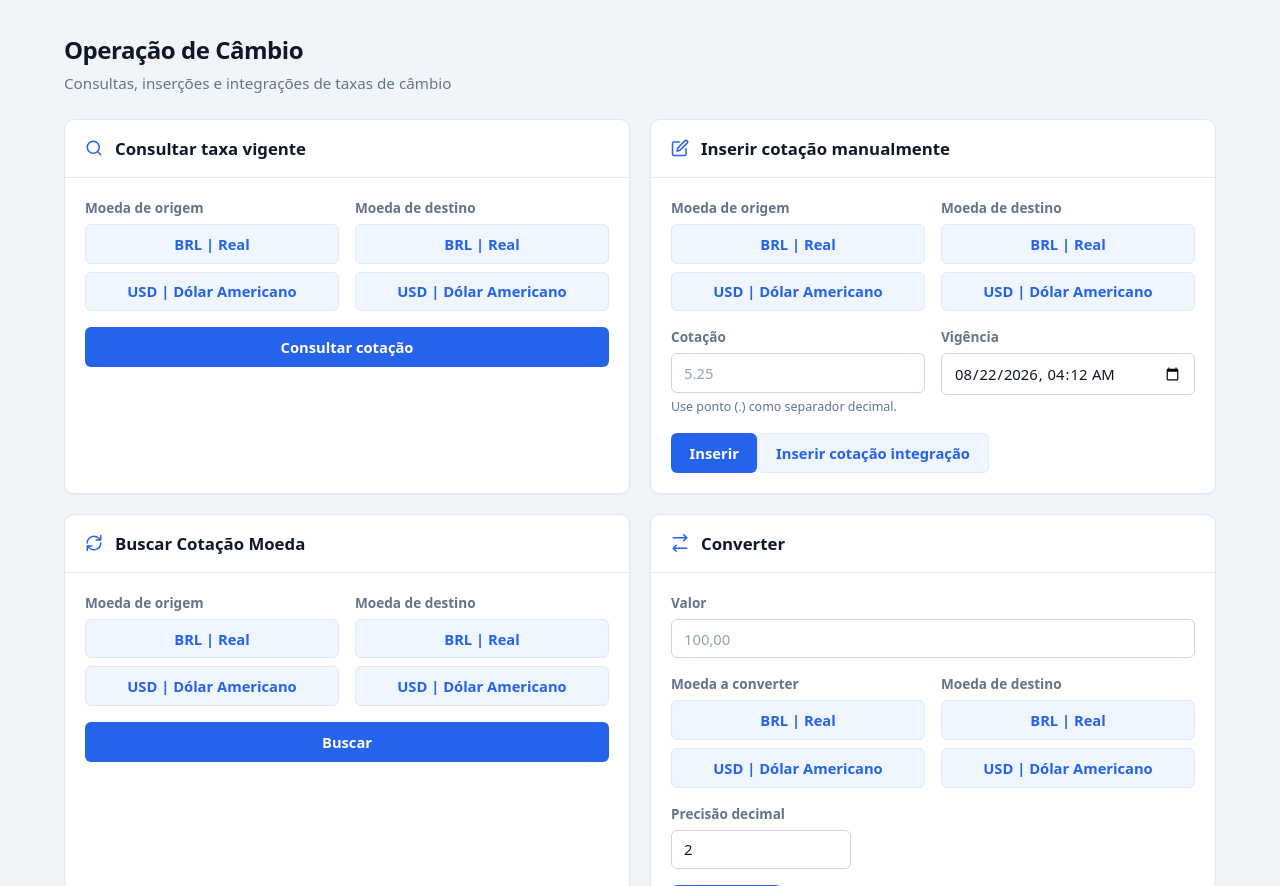
CambioPage › shows a friendly message when no rate is found (404)
Click the button with aria-label "BRL como moeda de origem para consulta": (212, 244) x1=85 y1=224 x2=339 y2=264
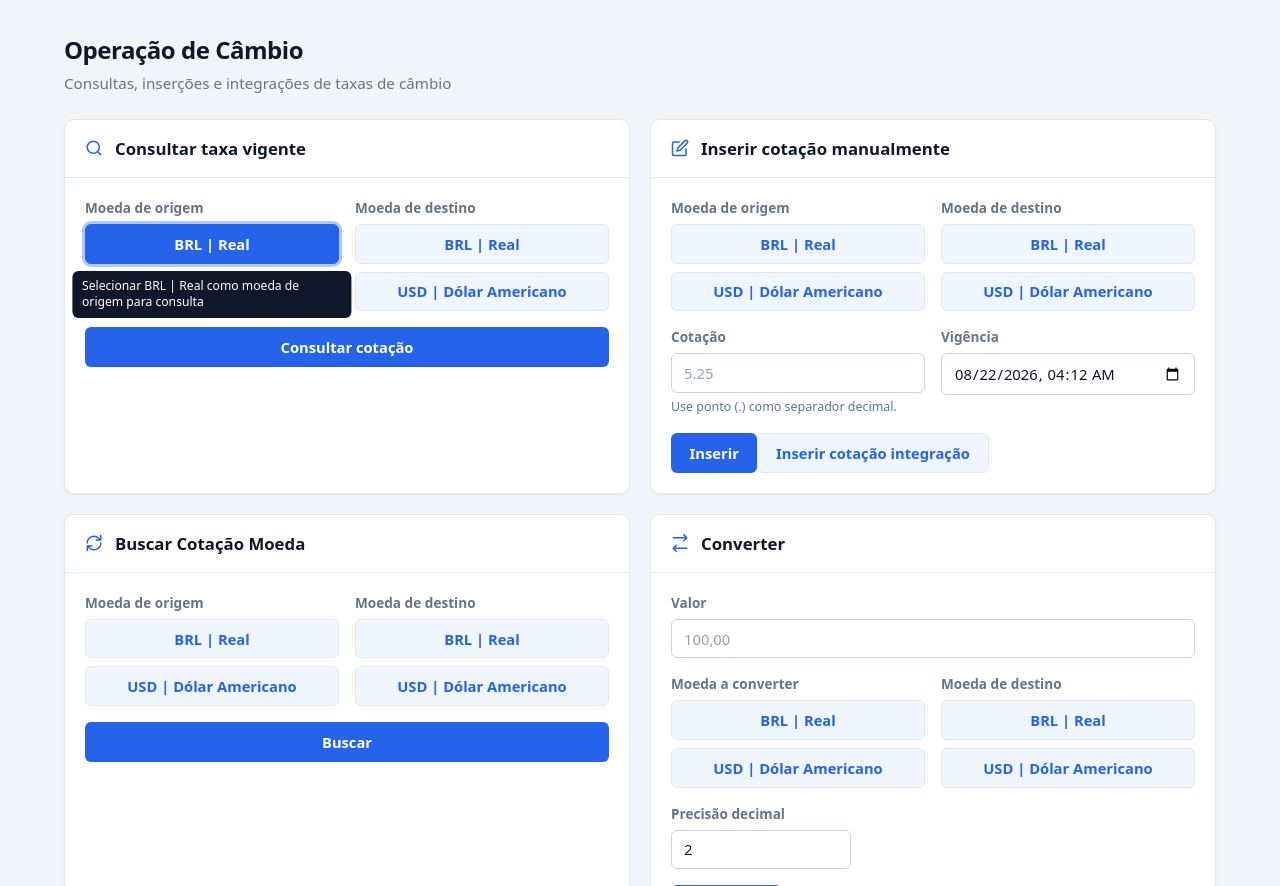
Click the button with aria-label "USD como moeda de destino para consulta": (482, 291) x1=355 y1=272 x2=609 y2=311
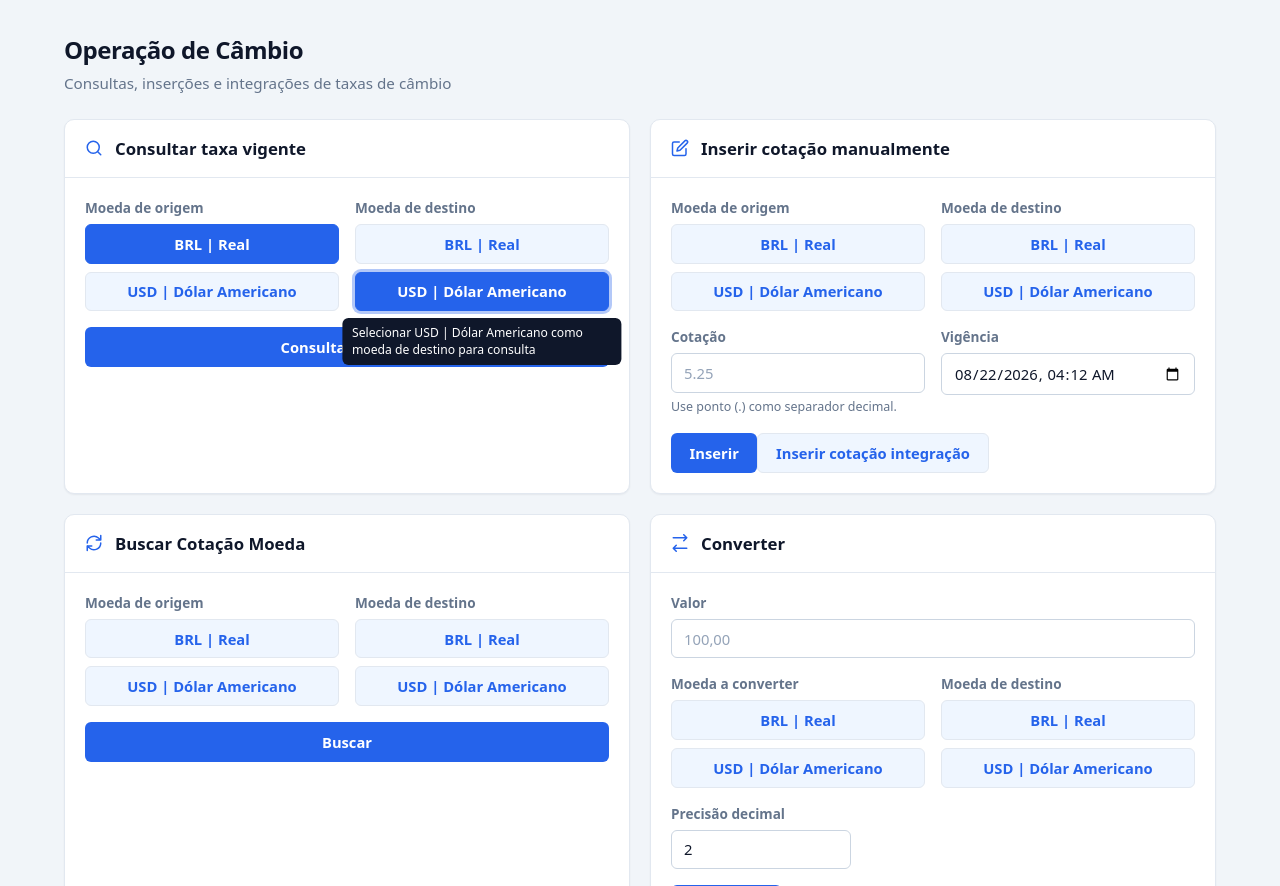
Click the button "Consultar cotação": (347, 347) x1=85 y1=327 x2=609 y2=367
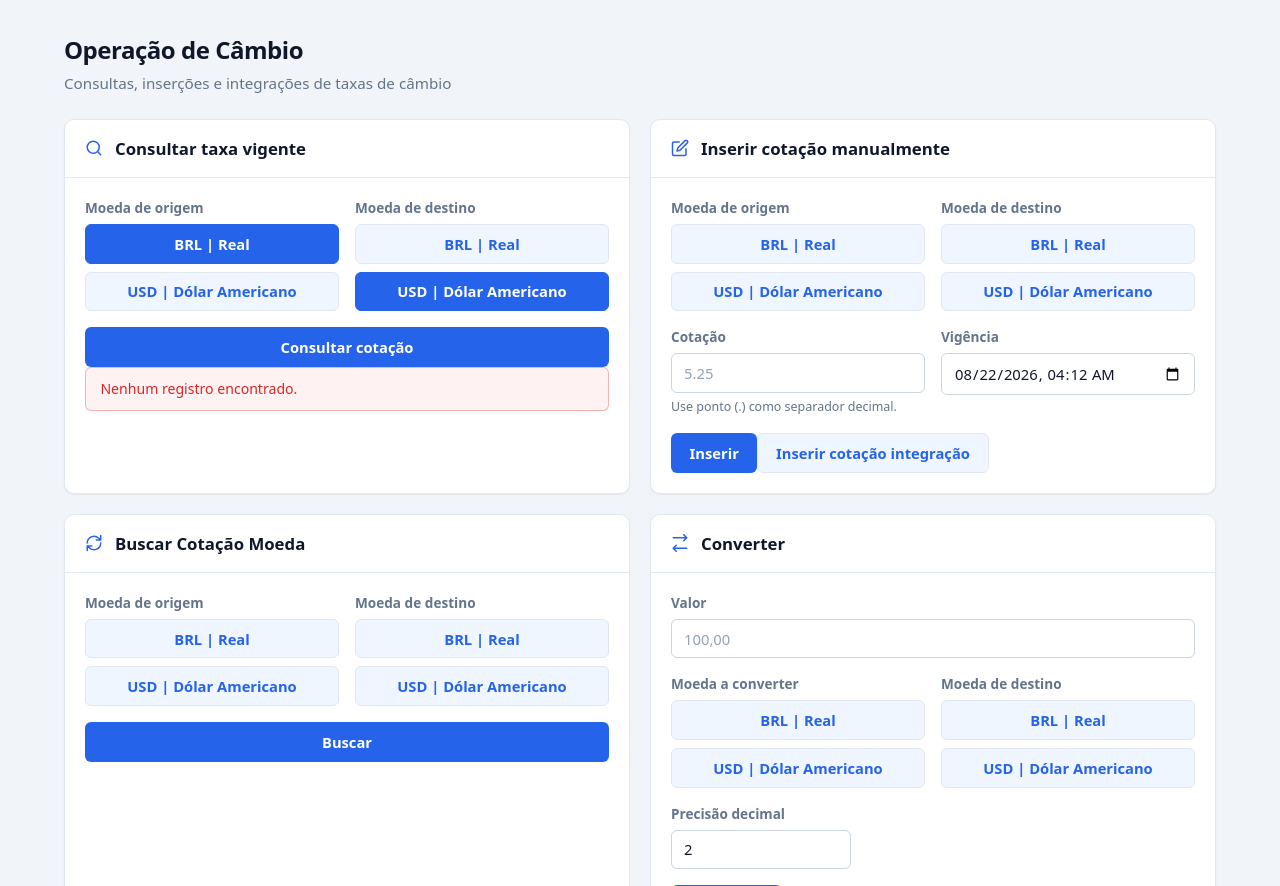
Check: the text "Nenhum registro encontrado." is shown, box x1=85 y1=367 x2=609 y2=411
